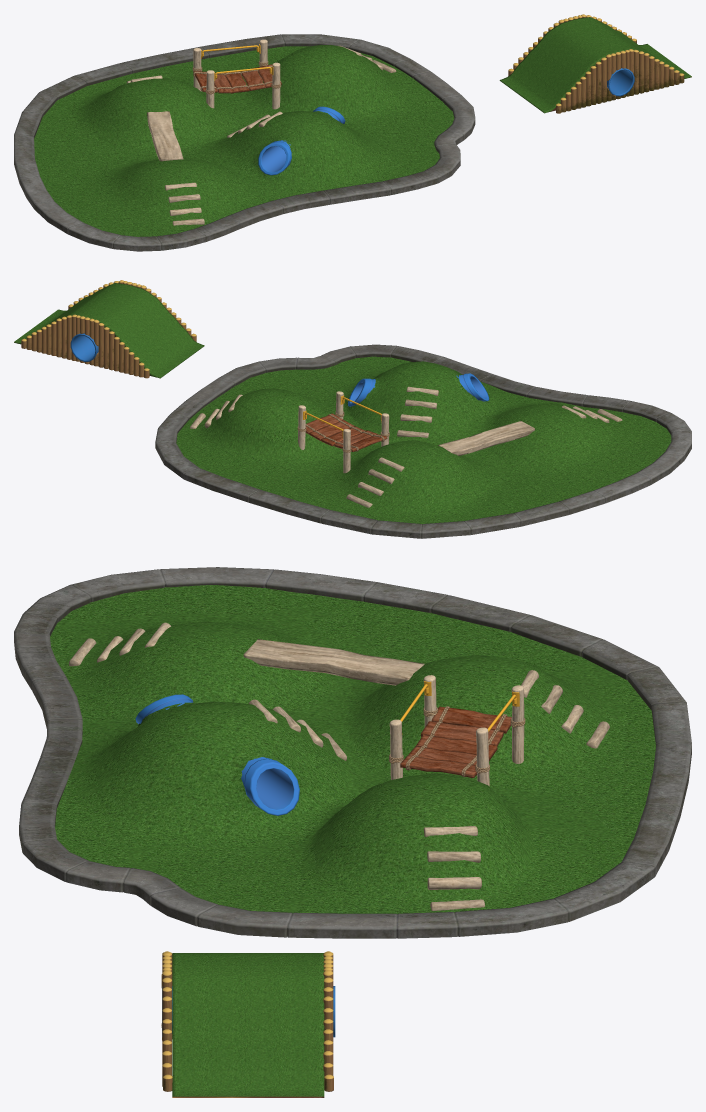
File: PlayGround.glb
The picture shows the model from 3 angles, top to bottom: view 1: azimuth 30°, elevation 25°; view 2: azimuth 150°, elevation 25°; view 3: azimuth 270°, elevation 25°; orthographic projection. The views are drawn at different scales.
Parts seen in each view (by area): view 1: Outdoor Playground 03 a, Outdoor Playground 03 b; view 2: Outdoor Playground 03 a, Outdoor Playground 03 b; view 3: Outdoor Playground 03 a, Outdoor Playground 03 b.
Part boxes in pixels (box(x1,y1,x2,y2)): Outdoor Playground 03 a: box(14, 34, 475, 251); Outdoor Playground 03 b: box(499, 14, 691, 113); Outdoor Playground 03 a: box(155, 344, 691, 538); Outdoor Playground 03 b: box(14, 280, 204, 378); Outdoor Playground 03 a: box(14, 567, 691, 938); Outdoor Playground 03 b: box(161, 951, 335, 1097).
Bounding box in the file's own units: 12.13 × 1.01 × 6.65.
Materials: 3 (3 with a texture image).
